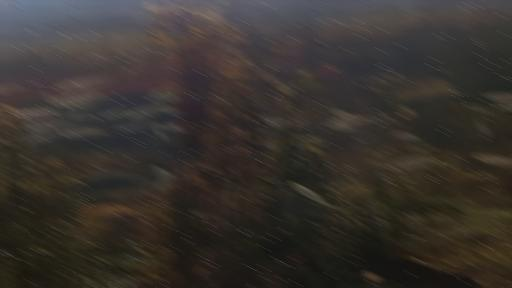Fish: (68, 171, 151, 198), (53, 75, 114, 91), (291, 182, 330, 207), (50, 90, 104, 106), (392, 157, 441, 169), (79, 74, 114, 90), (125, 106, 170, 118), (24, 119, 69, 131), (16, 108, 59, 120), (55, 79, 92, 91), (147, 86, 174, 102), (62, 128, 105, 138), (27, 131, 62, 143), (476, 154, 511, 166), (333, 109, 366, 121), (154, 168, 171, 190), (116, 122, 149, 131), (102, 108, 131, 118), (476, 116, 489, 138), (324, 122, 355, 130), (62, 126, 102, 132), (70, 112, 99, 120), (484, 93, 511, 101), (261, 140, 282, 150), (263, 116, 284, 126), (63, 103, 94, 109), (492, 101, 511, 110), (0, 84, 23, 91), (393, 134, 418, 140), (160, 106, 177, 114), (47, 157, 60, 167), (150, 124, 167, 130), (154, 131, 165, 139), (44, 91, 52, 101), (166, 124, 179, 130), (167, 95, 176, 101)
